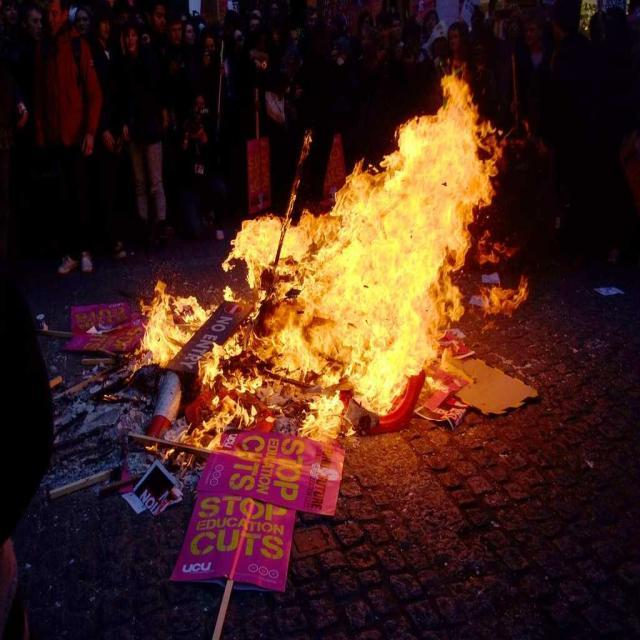Fire: (266, 69, 496, 426), (136, 234, 252, 438)
